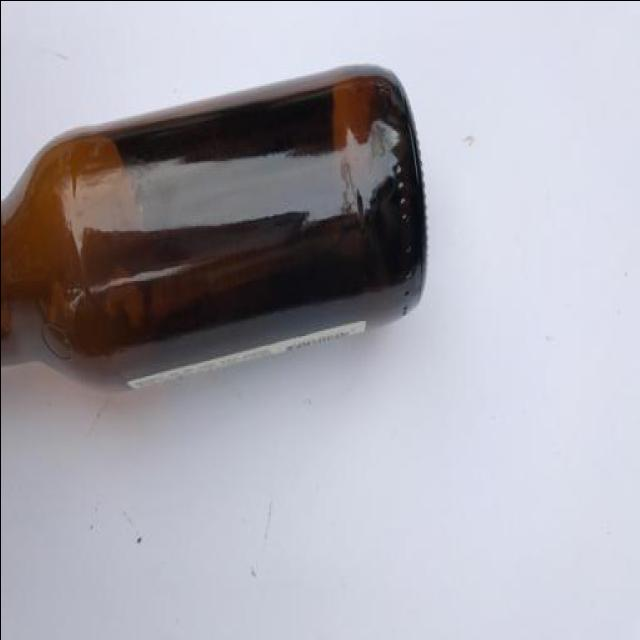glass: (0, 46, 446, 486)
